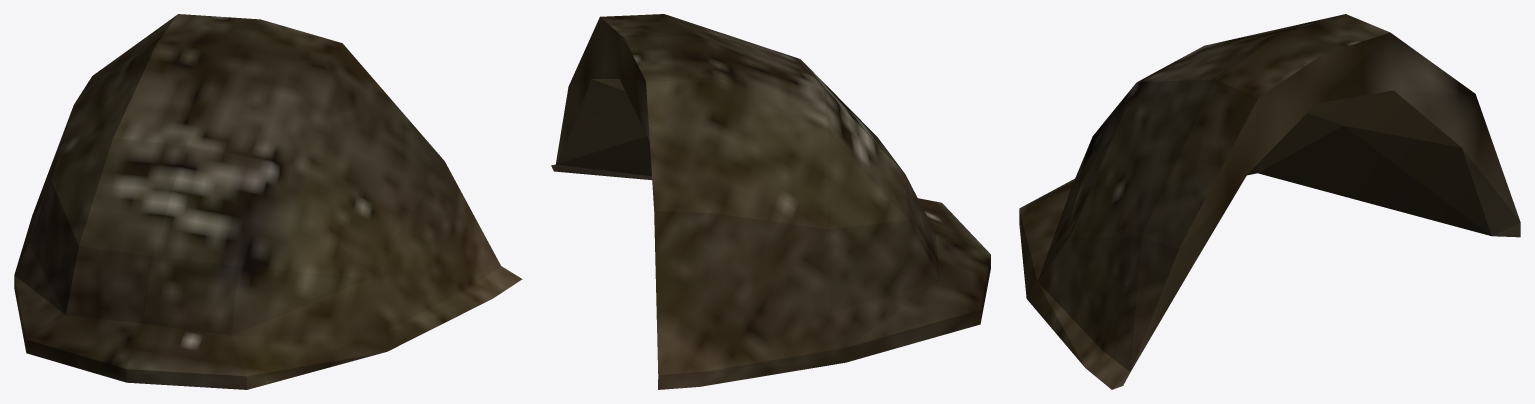
The model's file is SKORZANE_WZMOCNIENIE.glb.
The picture shows the model from 3 angles, left to right: view 1: azimuth 30°, elevation 25°; view 2: azimuth 150°, elevation 25°; view 3: azimuth 270°, elevation 25°; orthographic projection. The views are drawn at different scales.
Parts seen in each view (by area): view 1: SKORZANE_WZMOCNIENIE; view 2: SKORZANE_WZMOCNIENIE; view 3: SKORZANE_WZMOCNIENIE.
Part boxes in pixels (x1,y1,x2,y2): SKORZANE_WZMOCNIENIE: [14, 14, 522, 389]; SKORZANE_WZMOCNIENIE: [551, 14, 990, 389]; SKORZANE_WZMOCNIENIE: [1019, 14, 1520, 389].
Bounding box in the file's own units: 0.3527 × 0.1742 × 0.3162.
Materials: 1 (1 with a texture image).
